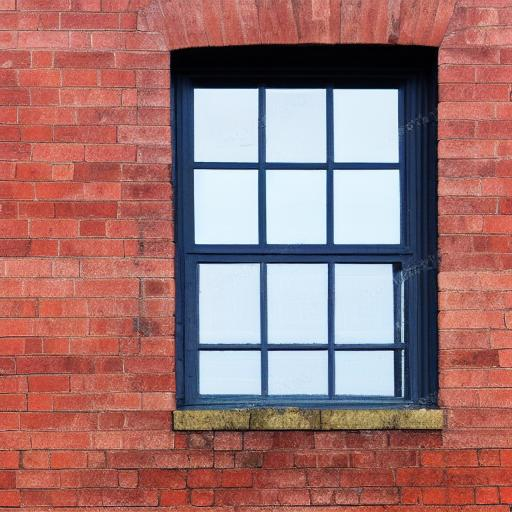Window: (138, 2, 459, 432)
